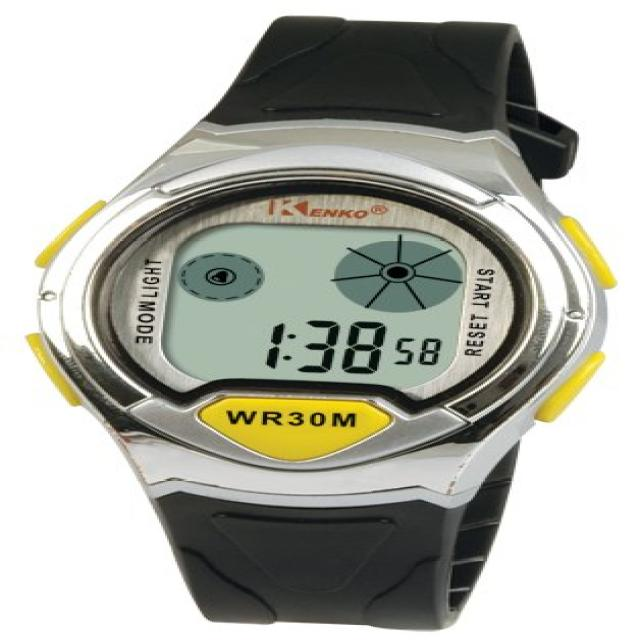watch: (50, 178, 555, 479)
